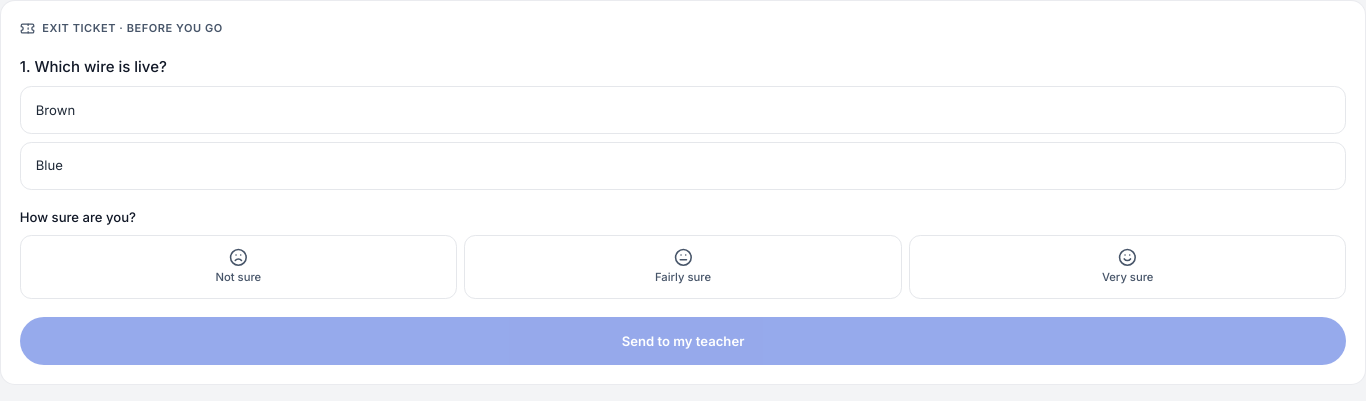
learner interactive items › exit ticket: needs every answer and a confidence, then shows the keys
Expected: the button "Send to my teacher" is disabled, [20,317,1346,365]
Click the radio button labelled "Brown" at (55, 110), box [20,86,1346,134]
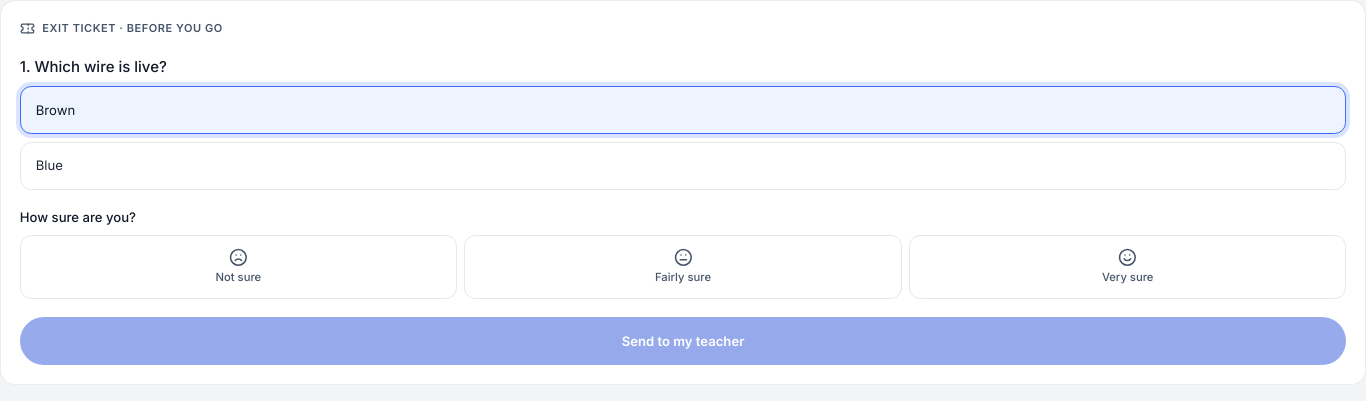
Expected: the button "Send to my teacher" is disabled, [20,317,1346,365]
Click the radio button labelled "Very sure" at (1128, 267), box [909,235,1346,299]
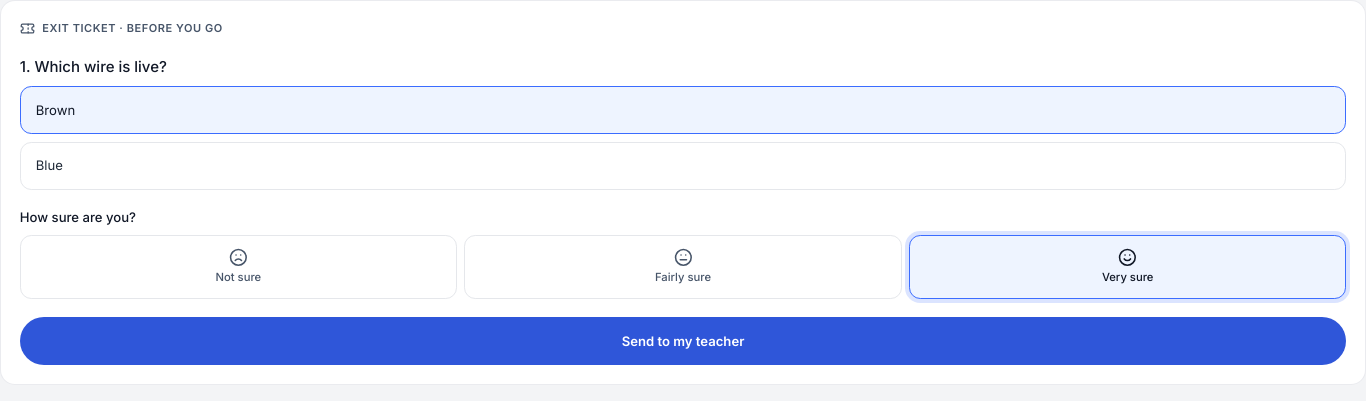
Click the button "Send to my teacher" at (683, 341), box [20,317,1346,365]
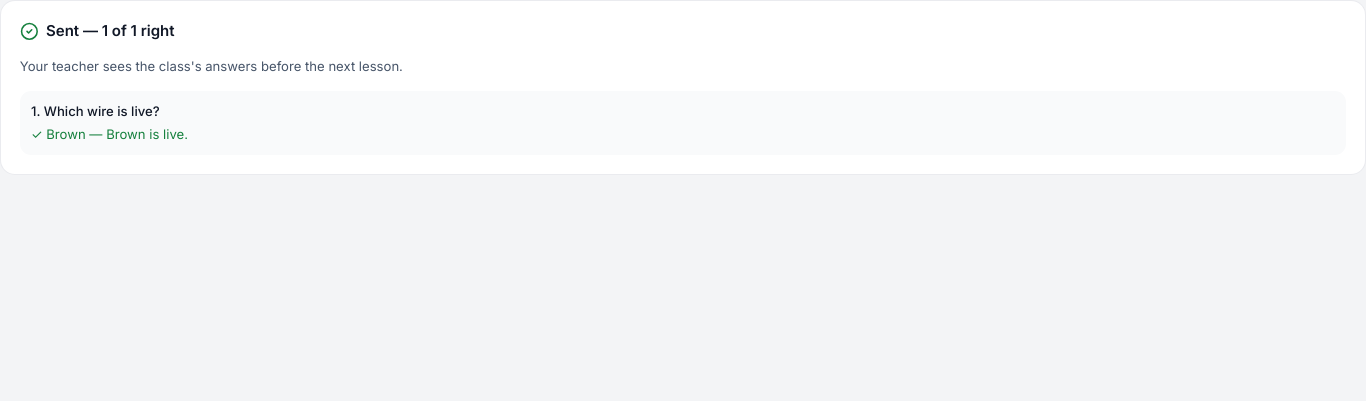
Expected: the text "Sent — 1 of 1 right" is shown, [20,21,175,40]
Expected: the text "✓ Brown — Brown is live." is shown, [31,126,188,142]
